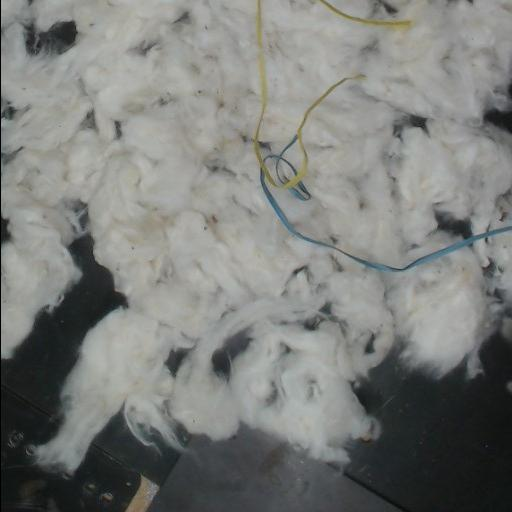cotton: (1, 0, 512, 473), (299, 4, 512, 266), (386, 233, 512, 374)
thread: (252, 0, 512, 272), (316, 0, 411, 27)
